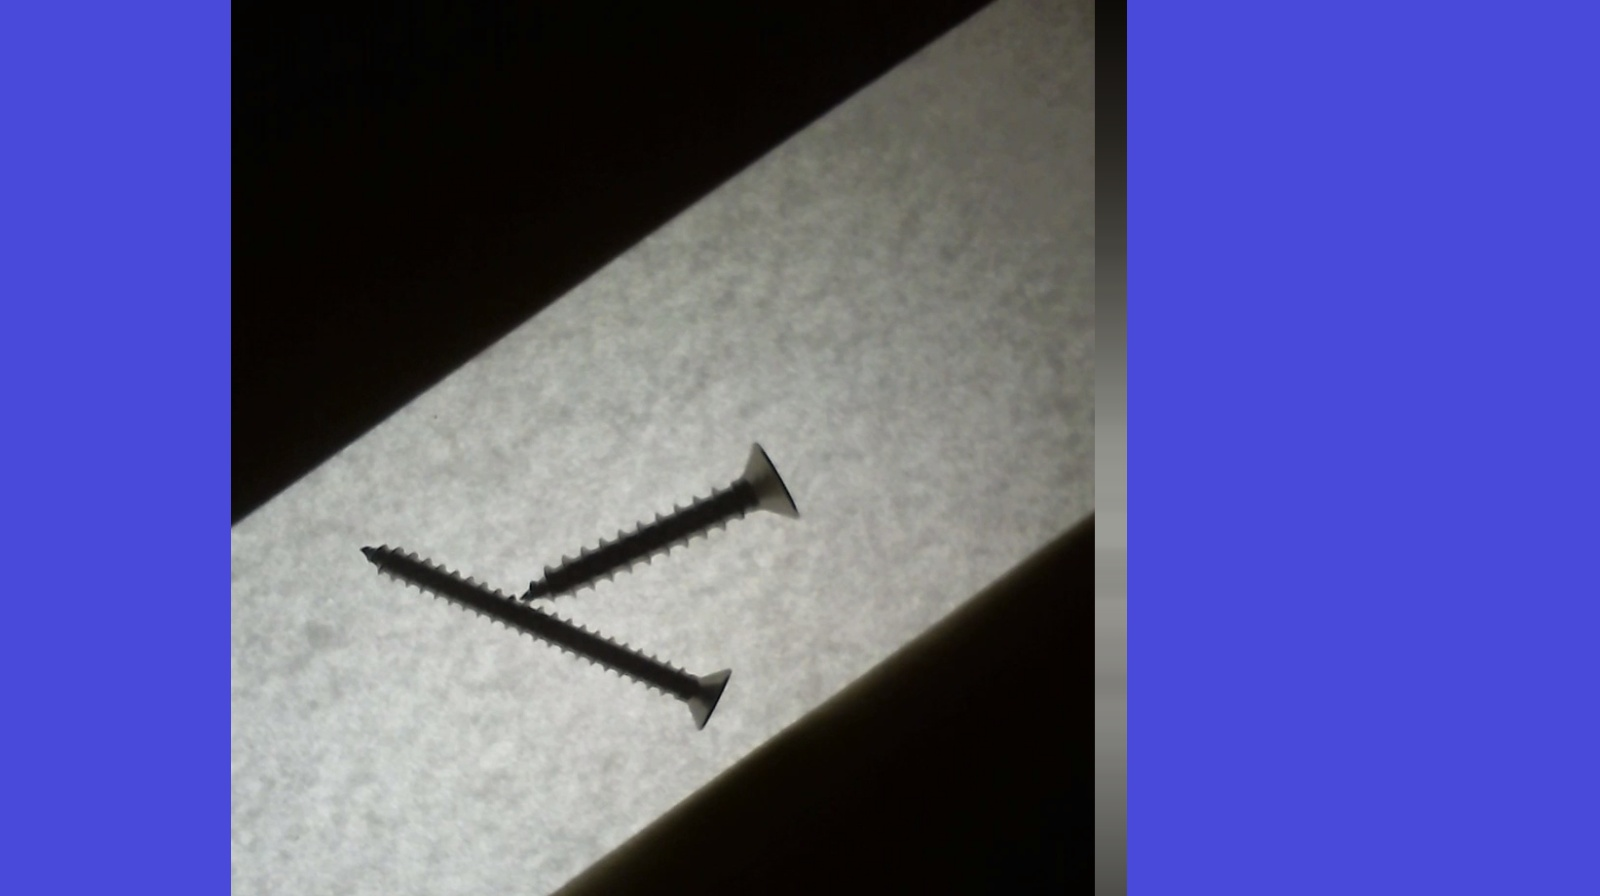S001: (520, 436, 804, 610)
S002: (358, 533, 738, 730)
